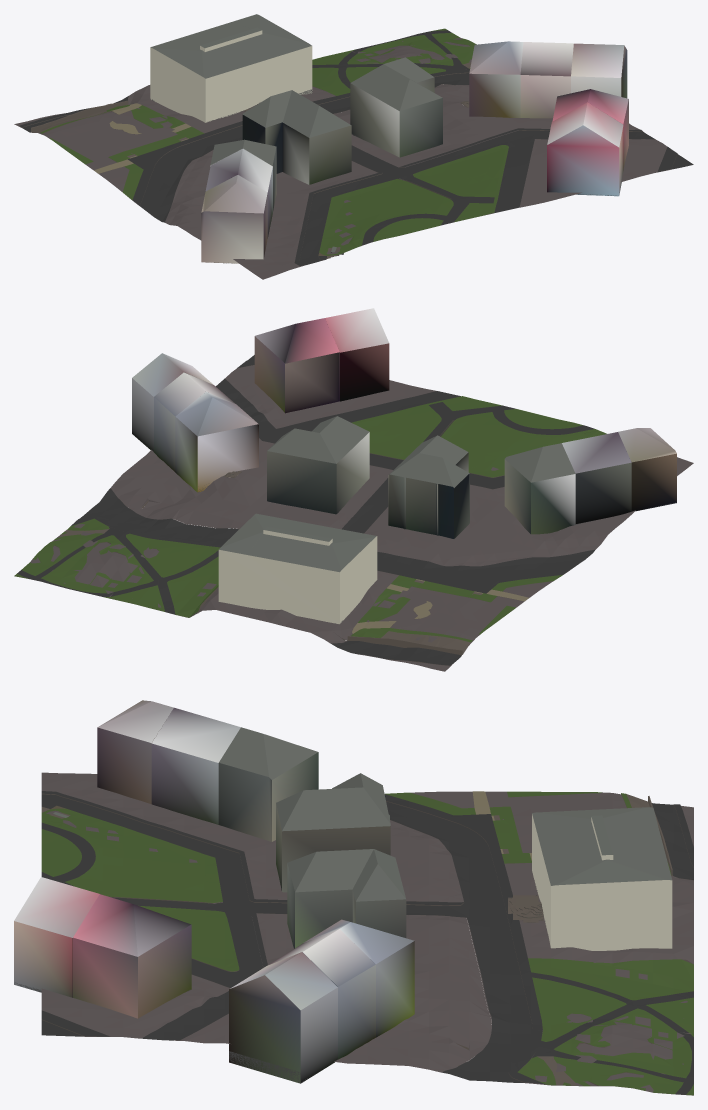
The picture shows the model from 3 angles, top to bottom: view 1: azimuth 30°, elevation 25°; view 2: azimuth 150°, elevation 25°; view 3: azimuth 270°, elevation 25°; orthographic projection. The views are drawn at different scales.
Visible parts, largest first — view 1: c_p01_m15; view 2: c_p01_m15; view 3: c_p01_m15.
Part boxes in pixels (x1,y1,x2,y2): c_p01_m15: (14,14,693,279); c_p01_m15: (14,308,693,671); c_p01_m15: (14,700,693,1095).
Size of the model in its own units: 144 by 32.01 by 133.
